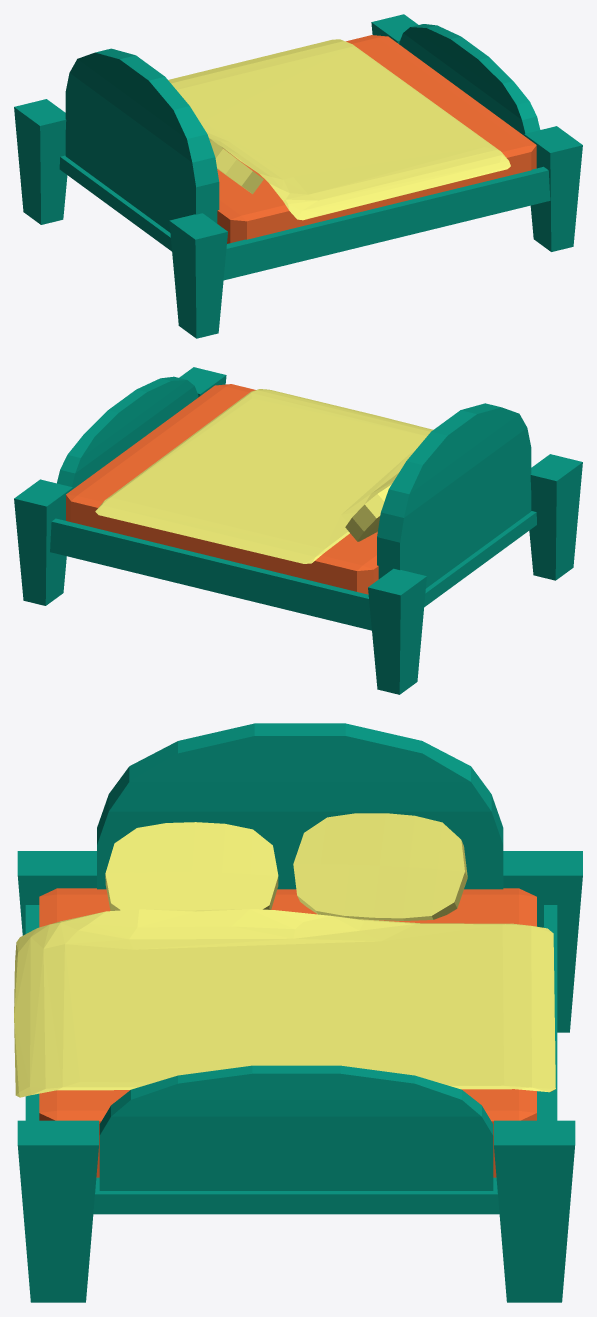
The model's file is Cama Pintada.FBX.
The picture shows the model from 3 angles, top to bottom: view 1: azimuth 30°, elevation 25°; view 2: azimuth 150°, elevation 25°; view 3: azimuth 270°, elevation 25°; orthographic projection. The views are drawn at different scales.
Visible parts, largest first — view 1: Plane.001, Cabecera abajo, Cabecera celante, Colchon, Cabecera detras, Almohada2; view 2: Plane.001, Cabecera abajo, Cabecera celante, Colchon, Cabecera detras, Almohada1; view 3: Plane.001, Cabecera abajo, Cabecera detras, Cabecera celante, Almohada1, Almohada2, Colchon.
Boxes of the visible parts, x1,y1,x2,y2 form: Plane.001: [168, 39, 510, 220]; Cabecera abajo: [14, 14, 582, 338]; Cabecera celante: [65, 48, 219, 232]; Colchon: [217, 35, 536, 243]; Cabecera detras: [399, 24, 540, 135]; Almohada2: [209, 138, 263, 194]; Plane.001: [95, 389, 433, 563]; Cabecera abajo: [14, 367, 582, 694]; Cabecera celante: [377, 403, 531, 588]; Colchon: [66, 384, 378, 594]; Cabecera detras: [57, 376, 198, 488]; Almohada1: [345, 485, 390, 541]; Plane.001: [14, 909, 555, 1097]; Cabecera abajo: [17, 851, 582, 1302]; Cabecera detras: [99, 1065, 493, 1190]; Cabecera celante: [97, 723, 503, 889]; Almohada1: [293, 813, 467, 920]; Almohada2: [105, 822, 278, 910]; Colchon: [39, 888, 536, 1177].
Bounding box in the file's own units: 281 × 138 × 230.
